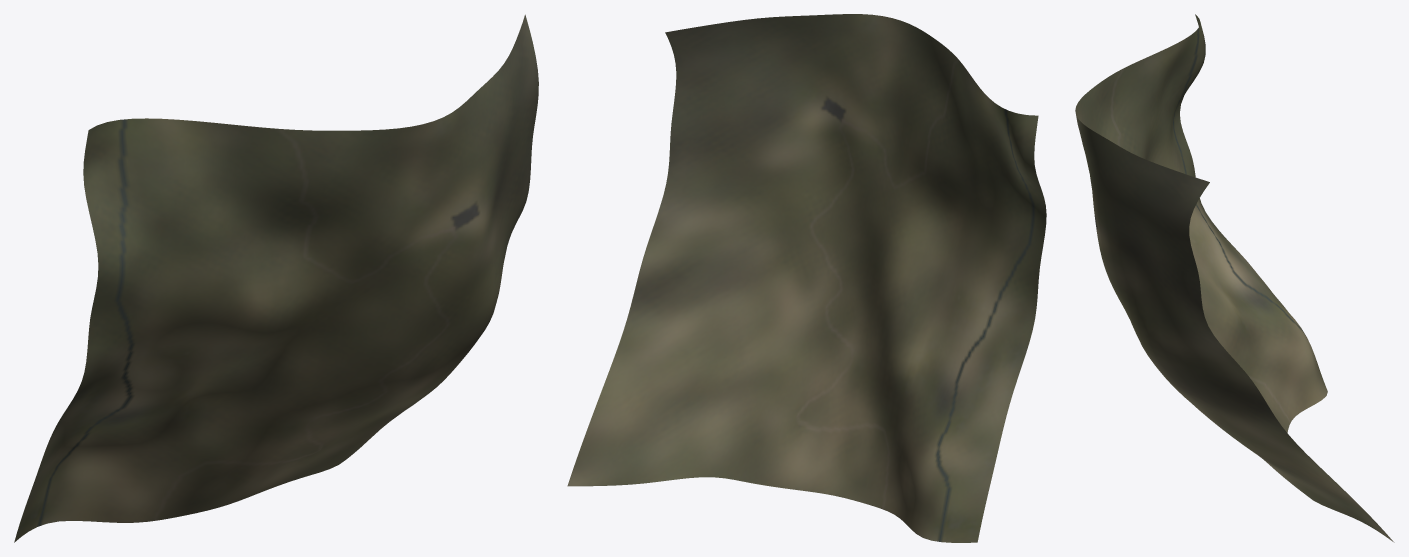
Rendered from ground_mid_04_06.obj.
3 views of the same model, side by side, from view 1: azimuth 30°, elevation 25°; view 2: azimuth 150°, elevation 25°; view 3: azimuth 270°, elevation 25° (orthographic). The views are drawn at different scales.
Visible parts, largest first — view 1: ground_mid_04_06; view 2: ground_mid_04_06; view 3: ground_mid_04_06.
Part boxes in pixels (x1,y1,x2,y2): ground_mid_04_06: (14, 14, 538, 542); ground_mid_04_06: (567, 14, 1046, 542); ground_mid_04_06: (1075, 14, 1394, 542).
Bounding box in the file's own units: 200 × 200 × 160.
1 material, 1 textured.
